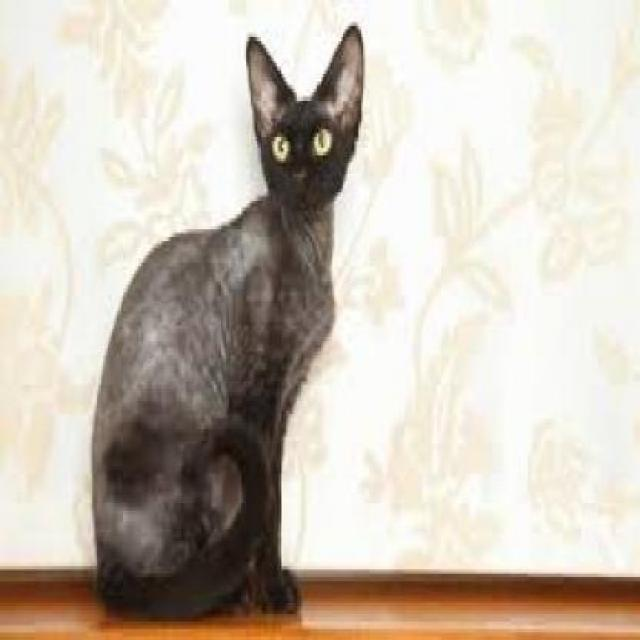animals: (76, 14, 381, 628)
